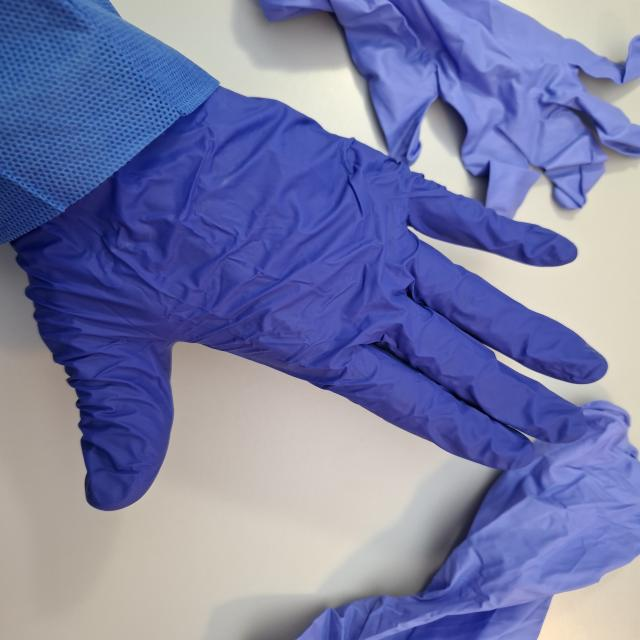glove_on: (0, 81, 612, 513)
